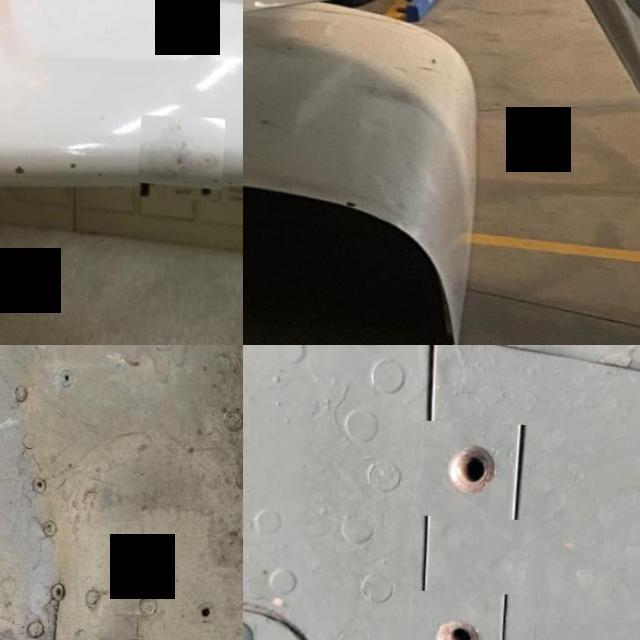Crack: (0, 118, 97, 197), (143, 112, 230, 198), (28, 583, 89, 640)
Missing_Fastener: (424, 418, 530, 517), (410, 588, 523, 640)
